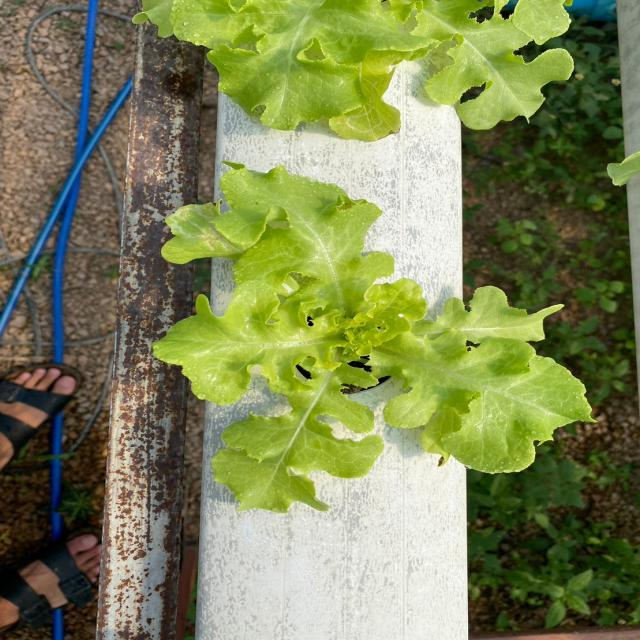Lettuce-Not-Ready-to-Harvest: (155, 169, 596, 515), (135, 0, 562, 131)
